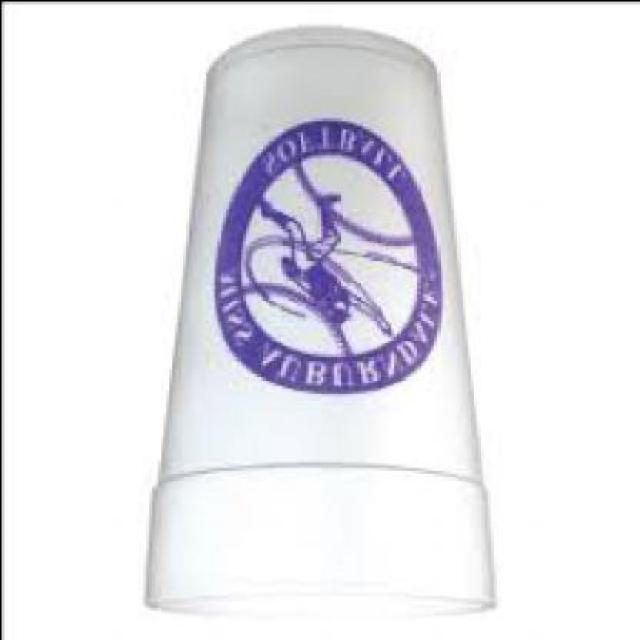PAPER: (142, 32, 487, 619)
